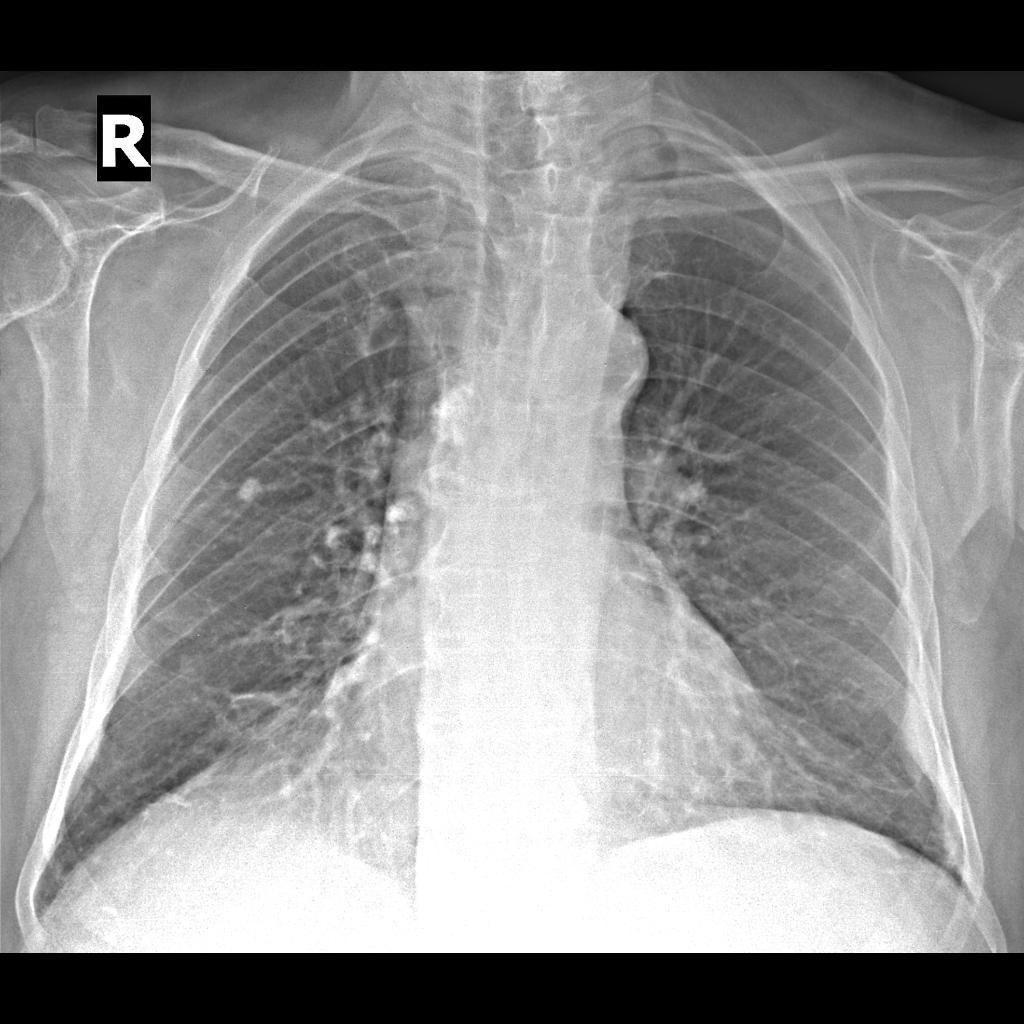Nodule: (232, 471, 267, 508)
